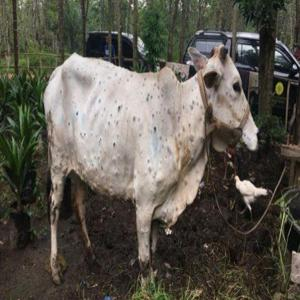lumpy skin diesease: (42, 43, 259, 295)
